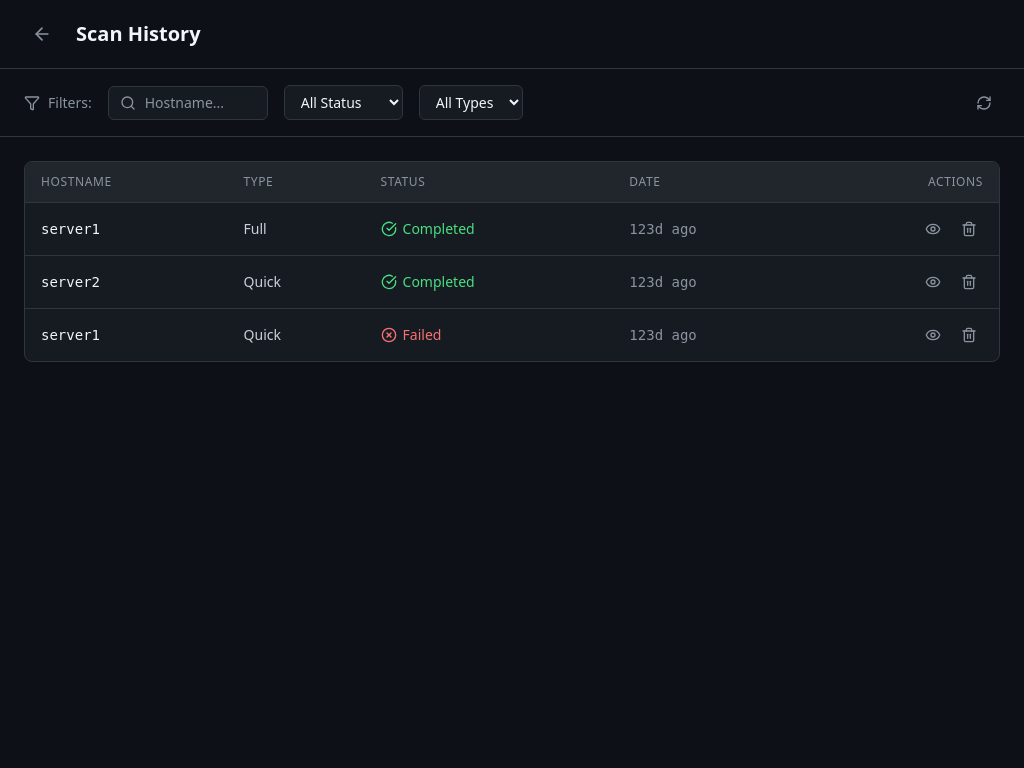
Test: ScanHistoryPage › Delete old scans (AC5) › closes modal without deleting on cancel
Click the button with test id "delete-button-1".
click(969, 229)  # box [955,215,983,243]
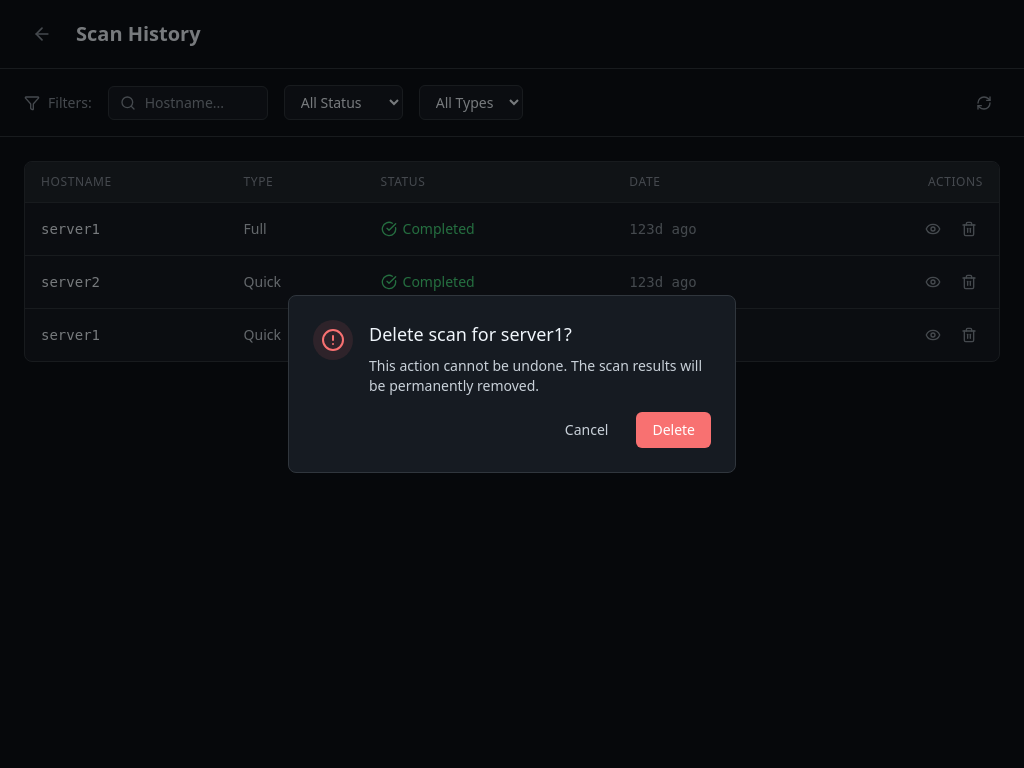
Result: the element with test id "delete-confirm-modal" is shown
Click the button with test id "cancel-delete-button".
click(587, 430)  # box [549,412,624,448]
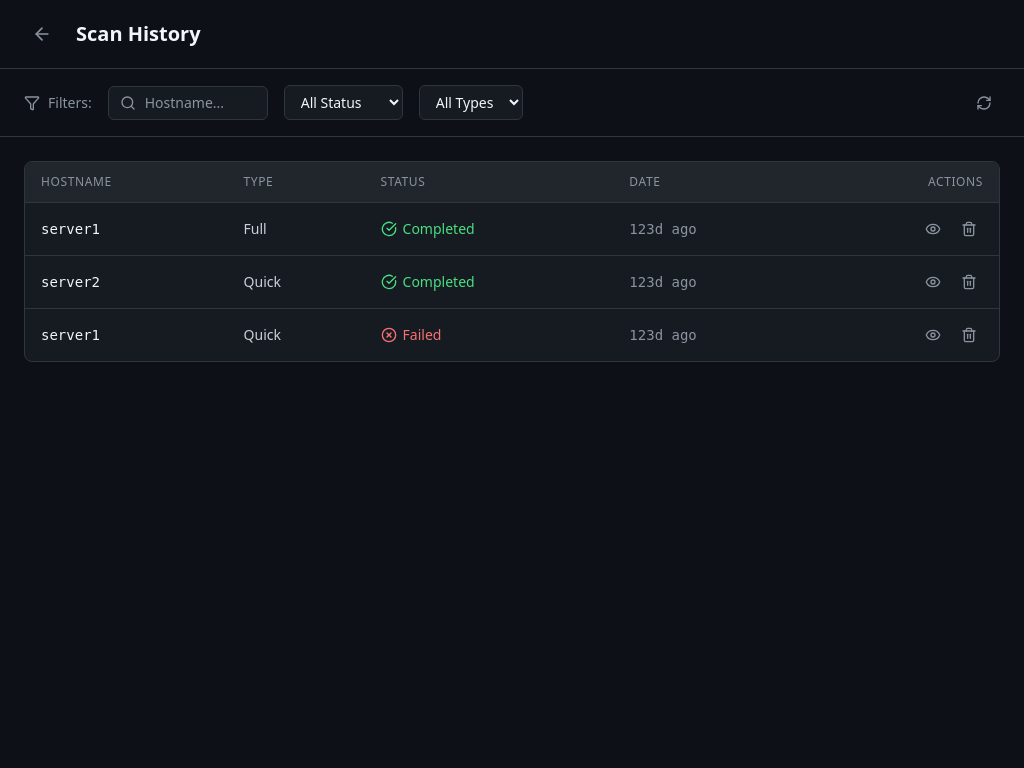
Result: the element with test id "delete-confirm-modal" is gone
